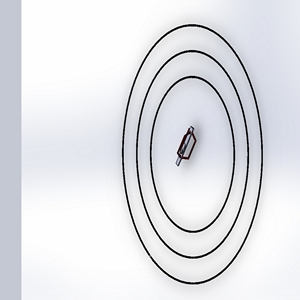circle: (116, 19, 271, 288)
submarine: (167, 118, 207, 171)
